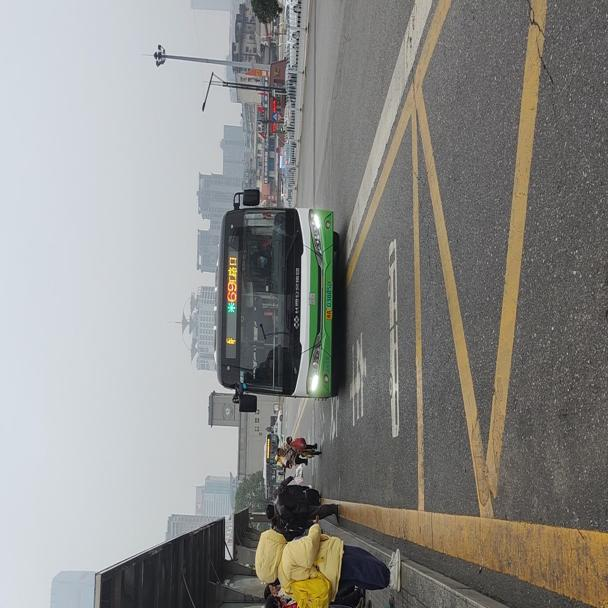bus: (213, 185, 334, 400)
screen: (223, 279, 237, 302)
